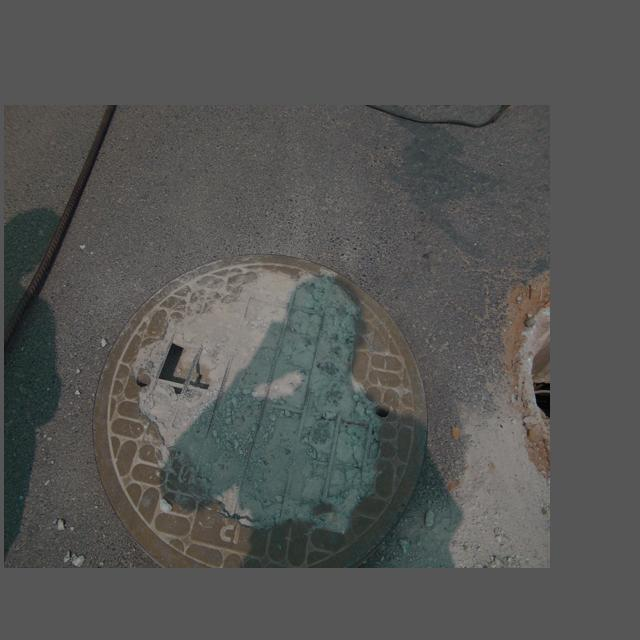broke: (91, 250, 430, 568)
